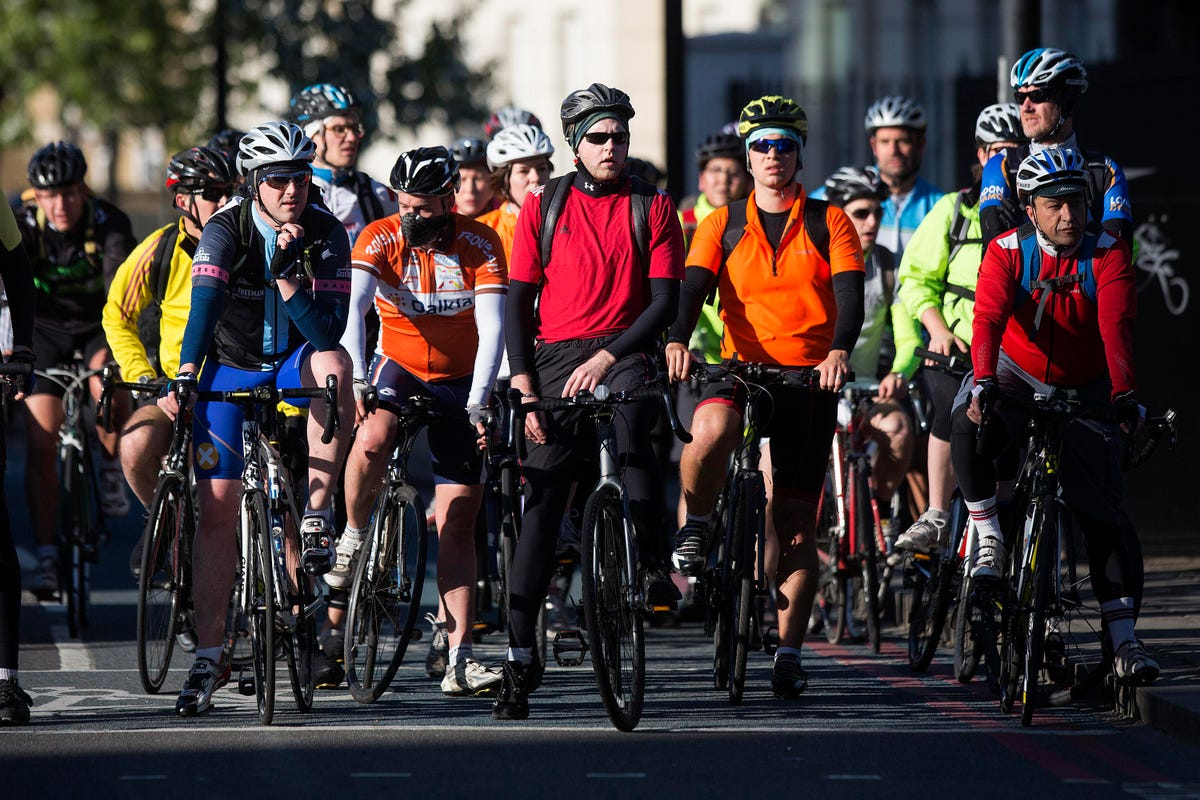helmet: (236, 120, 318, 224), (1015, 147, 1089, 246), (560, 83, 636, 179), (390, 146, 461, 248), (1010, 48, 1089, 138), (739, 95, 809, 188), (289, 83, 360, 168), (167, 146, 235, 231), (824, 166, 892, 251), (486, 124, 554, 208), (26, 141, 88, 231), (864, 95, 928, 178)
